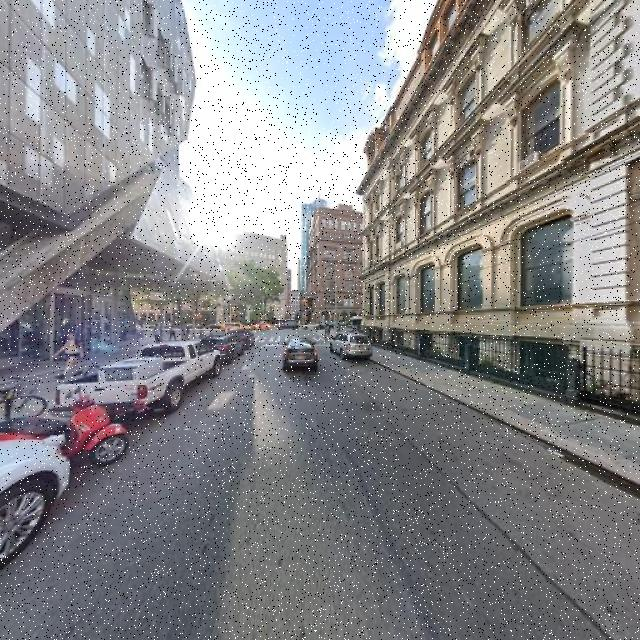Building: (364, 1, 640, 409), (1, 1, 187, 364)
